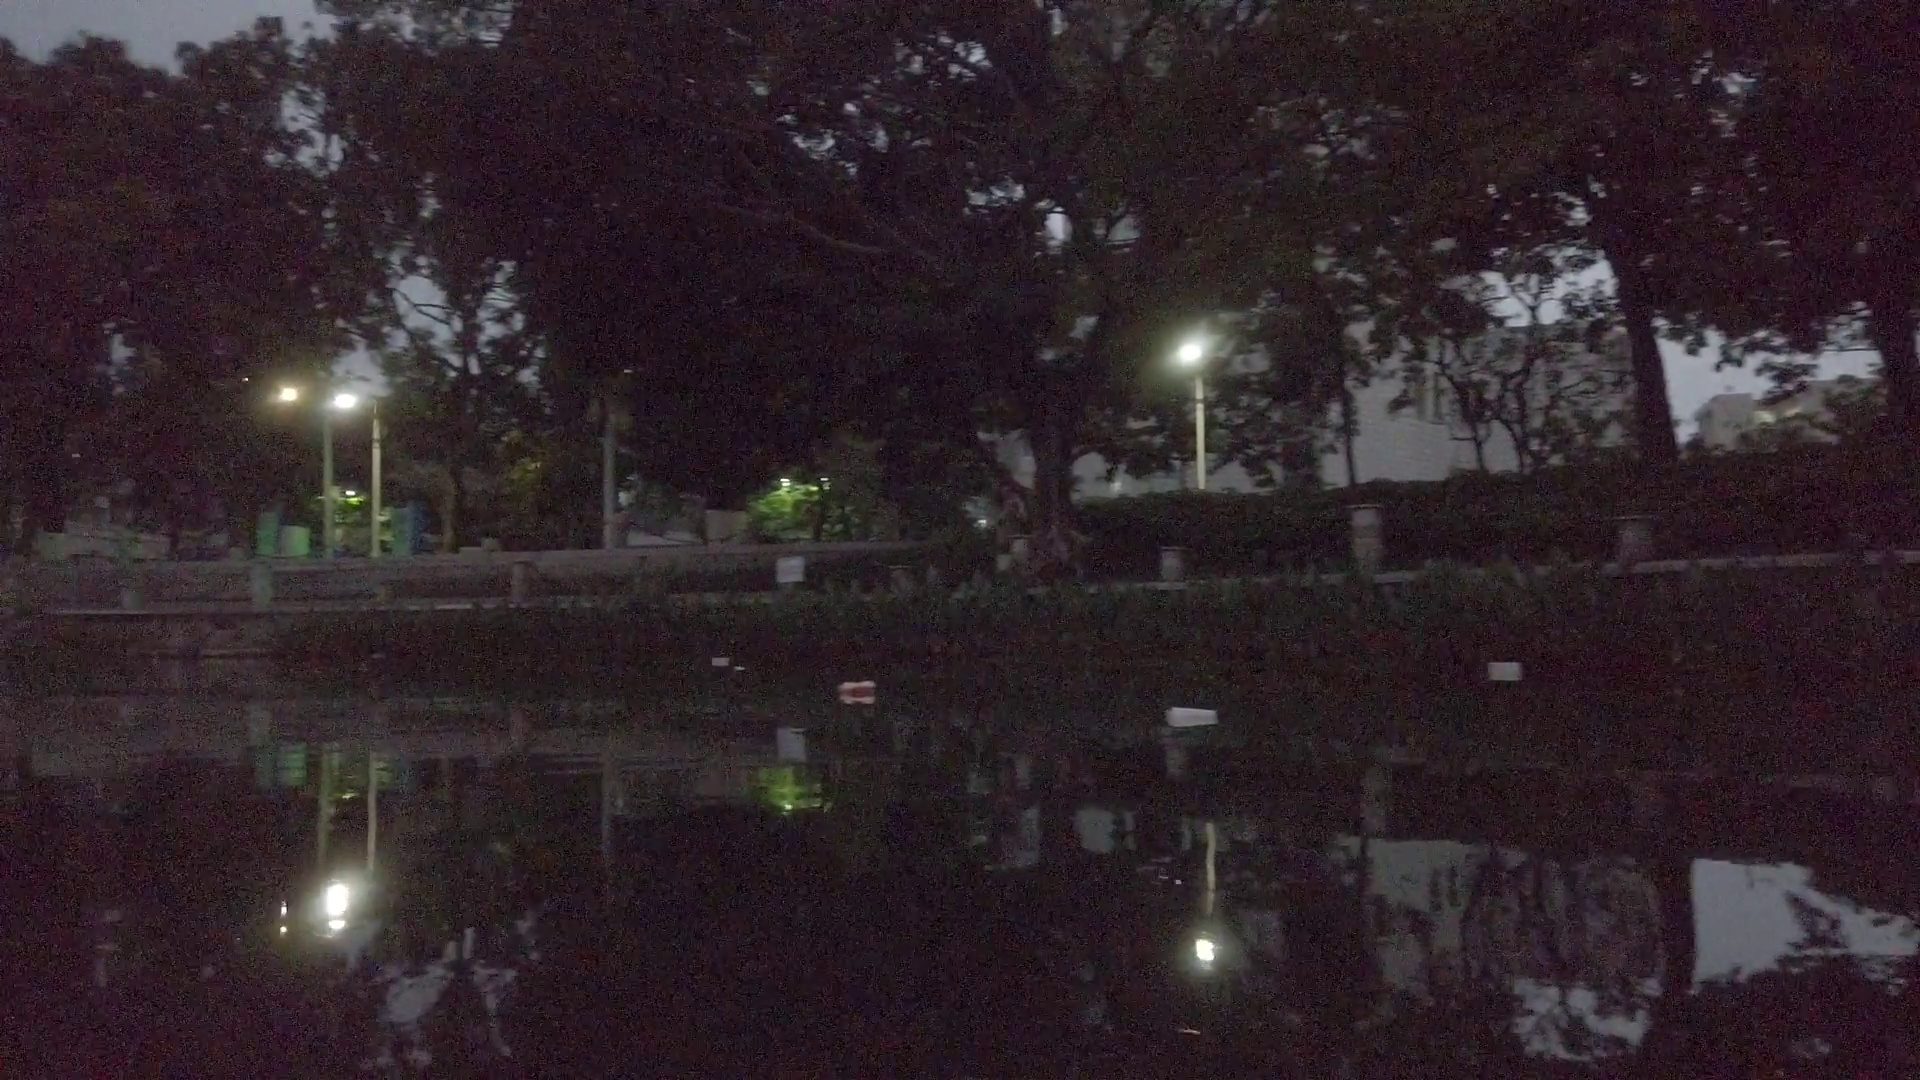bottle: (837, 679, 877, 699)
carton: (1162, 707, 1220, 727), (1485, 659, 1524, 684), (709, 653, 732, 669)
